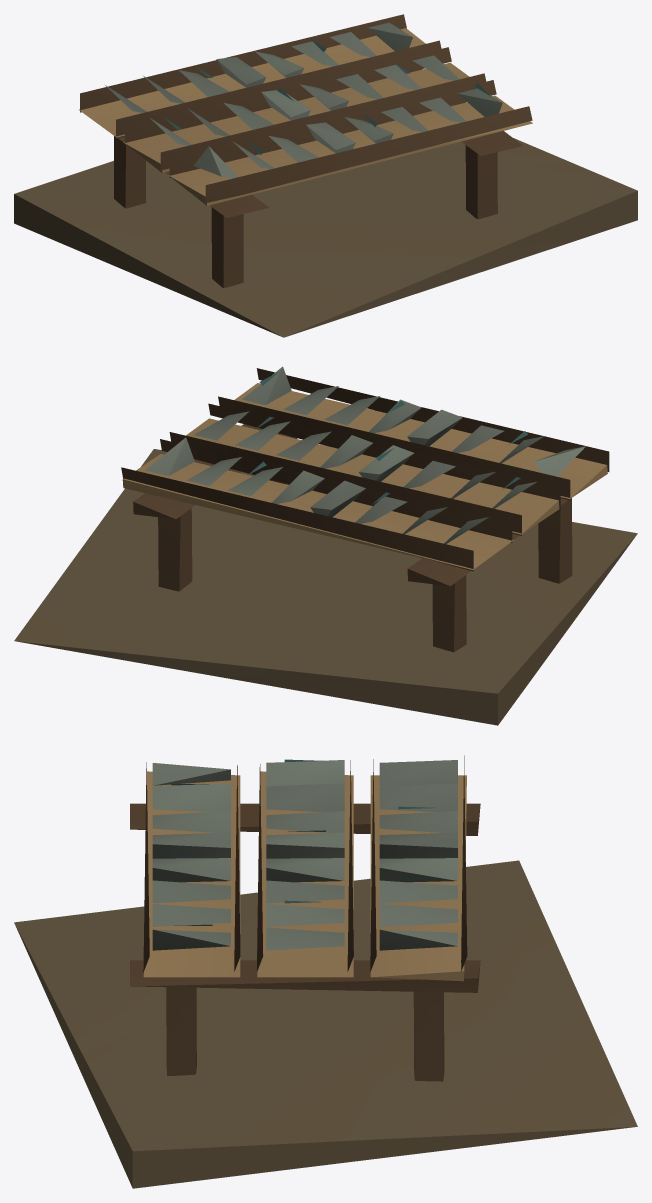
Rendered from core_trays_a_lod2.glb.
3 views of the same model, one above another, from view 1: azimuth 30°, elevation 25°; view 2: azimuth 150°, elevation 25°; view 3: azimuth 270°, elevation 25° (orthographic). The views are drawn at different scales.
Parts seen in each view (by area): view 1: Surface.001; view 2: Surface.001; view 3: Surface.001.
Part boxes in pixels (x1,y1,x2,y2): Surface.001: (14, 14, 637, 337); Surface.001: (14, 366, 637, 725); Surface.001: (14, 755, 637, 1188).
Bounding box in the file's own units: 3.34 × 0.9875 × 3.03.
